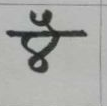ai_matra: (31, 10, 62, 31)
